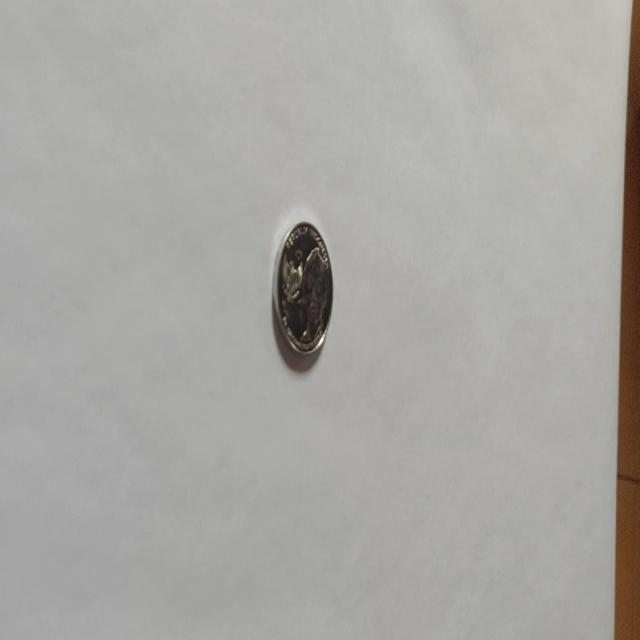dua ratus rupiah: (272, 218, 334, 358)
